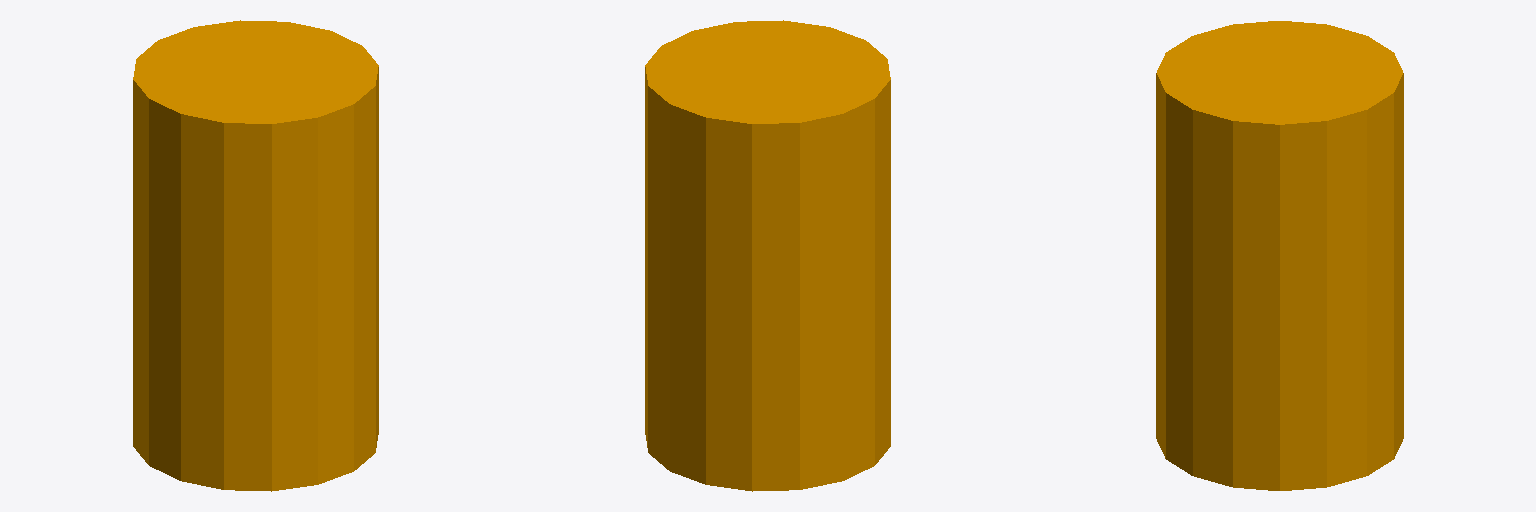
robot.urdf — sardine16.off:
<?xml version="1.0"?>
<robot name="sardine16.off">
	<link name="sardine16.off">
		<inertial>
			<!--origin xyz="0 0 0" rpy="0 0 0" /-->
			<mass value="0.5" />
			<!--inertia ixx="0.000360" ixy="0" ixz="0" iyy="0.0000615" iyz="0" izz="0.00036" /-->
		</inertial>
    		<visual>
	      		<!--origin rpy="0 0 0" xyz="0 0 0"/-->
      			<geometry>
        			<mesh filename="sardine16.off.obj"/>
      			</geometry>
         	</visual>
    		<collision>
      			<!--origin rpy="0 0 0" xyz="0 0 0"/-->
      			<geometry>
        			<mesh filename="sardine16.off.obj"/>
      			</geometry>
    		</collision>
	</link>
</robot>

--- What the picture shows (computed from the rendered views, not written in the file) ---
Views: 3 orthographic renders of the robot side by side, from view 1: azimuth 30°, elevation 25°; view 2: azimuth 150°, elevation 25°; view 3: azimuth 270°, elevation 25°.
Robot: sardine16.off — 1 links, 0 joints (none); root link sardine16.off; default pose: every joint at zero.
Links seen in each view (by area): view 1: sardine16.off; view 2: sardine16.off; view 3: sardine16.off.
Link boxes in pixels (box(x1,y1,x2,y2)): sardine16.off: box(133, 20, 378, 491); sardine16.off: box(645, 20, 890, 491); sardine16.off: box(1156, 21, 1403, 490).
Size in the robot's own frame: 5.5 by 5.5 by 9 metres.
Meshes: 1 distinct files referenced, 1 mesh visuals loaded (1 OBJ).